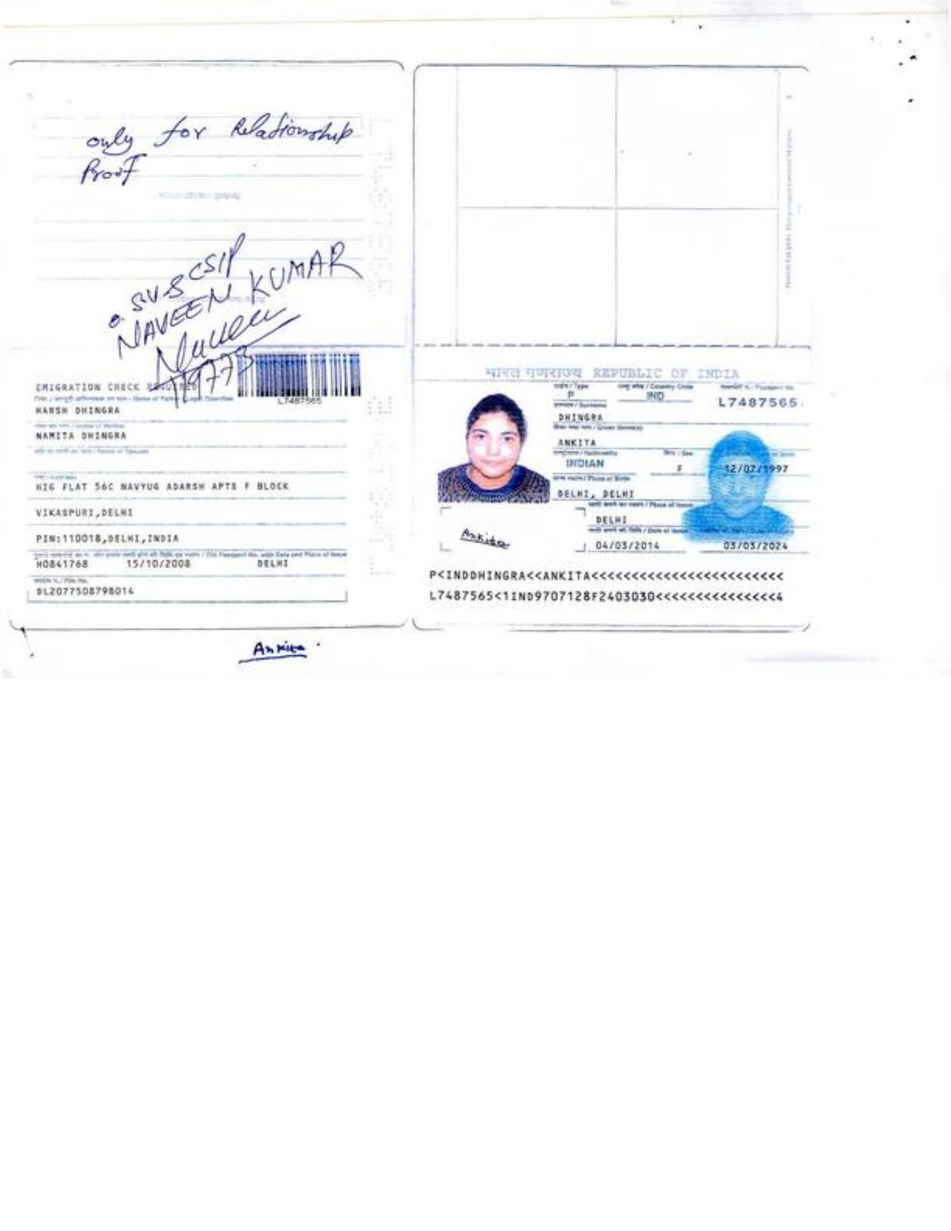DOB: (709, 458, 799, 480)
File_no: (33, 582, 138, 602)
Surname: (556, 408, 616, 423)
address: (26, 458, 305, 545)
country_code: (641, 387, 667, 408)
date_of_expiry: (707, 534, 801, 552)
date_of_issue: (588, 537, 668, 556)
details: (428, 564, 794, 609)
father_name: (34, 406, 127, 418)
mother_name: (33, 428, 133, 445)
name: (551, 435, 613, 454)
nationality: (549, 453, 625, 474)
old_passport_details: (29, 556, 298, 573)
passport_no: (705, 392, 812, 415), (705, 392, 810, 414), (275, 390, 324, 412)
photo: (434, 383, 541, 504)
place_of_birth: (554, 485, 640, 504)
place_of_issue: (591, 512, 632, 529)
sex: (661, 456, 694, 478)
sign: (451, 522, 514, 557)
type: (553, 384, 591, 401)
